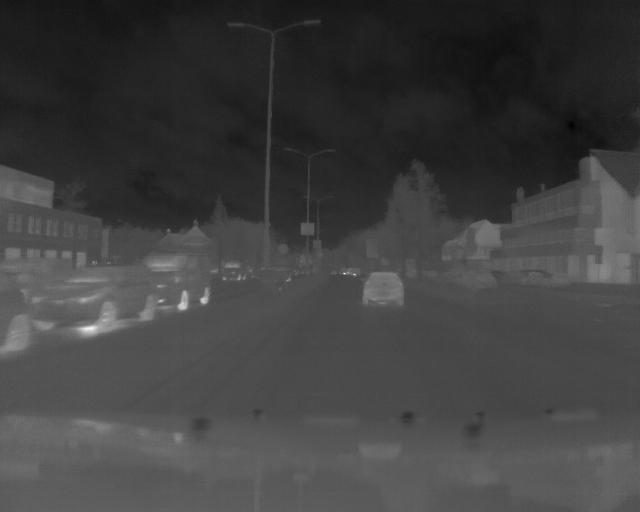car: (37, 263, 155, 338), (165, 249, 221, 310), (355, 270, 404, 309), (502, 267, 568, 293), (223, 258, 251, 277)
